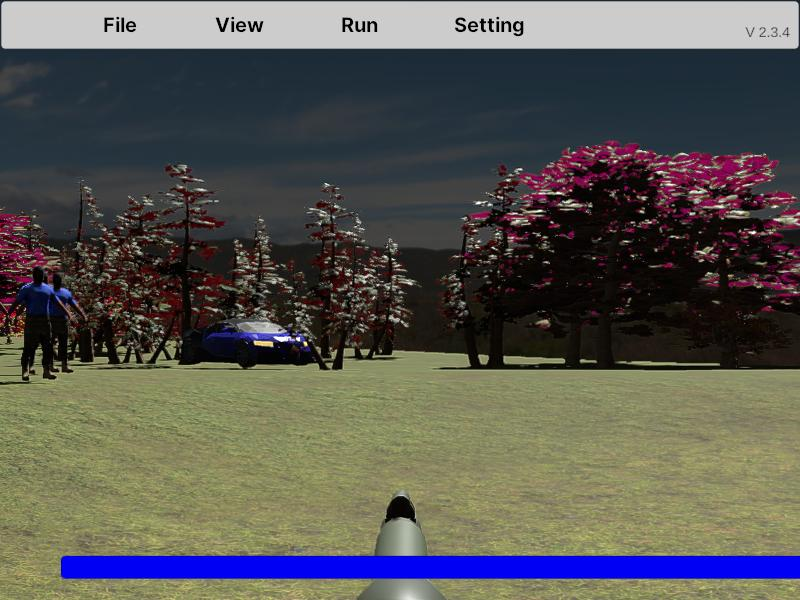Human: (14, 267, 73, 380)
car: (176, 316, 321, 368)
